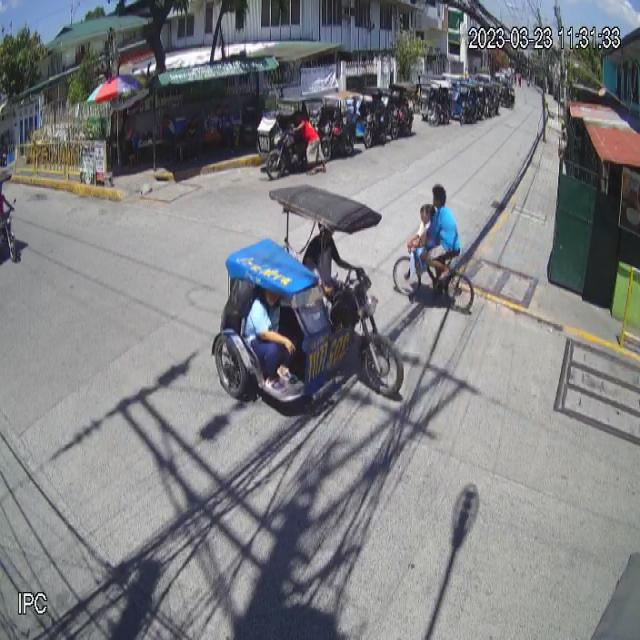Tricycle: (210, 182, 404, 408)
